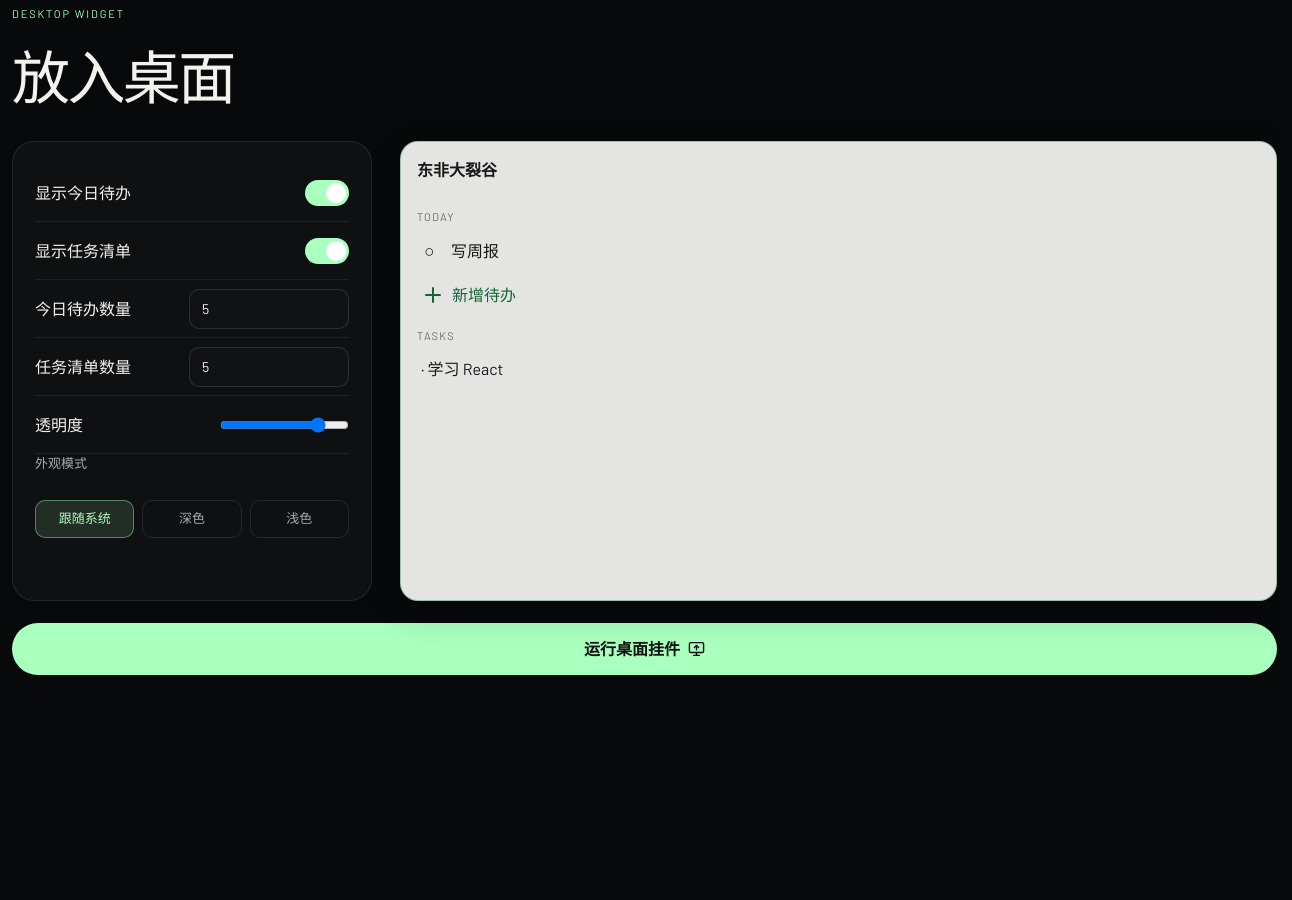
Test case: DesktopConfigPage › runs the configured desktop widget from the console
The width and height of the screenshot is (1292, 900).
Click the button "运行桌面挂件".
click(644, 649)  # box [12,623,1277,675]
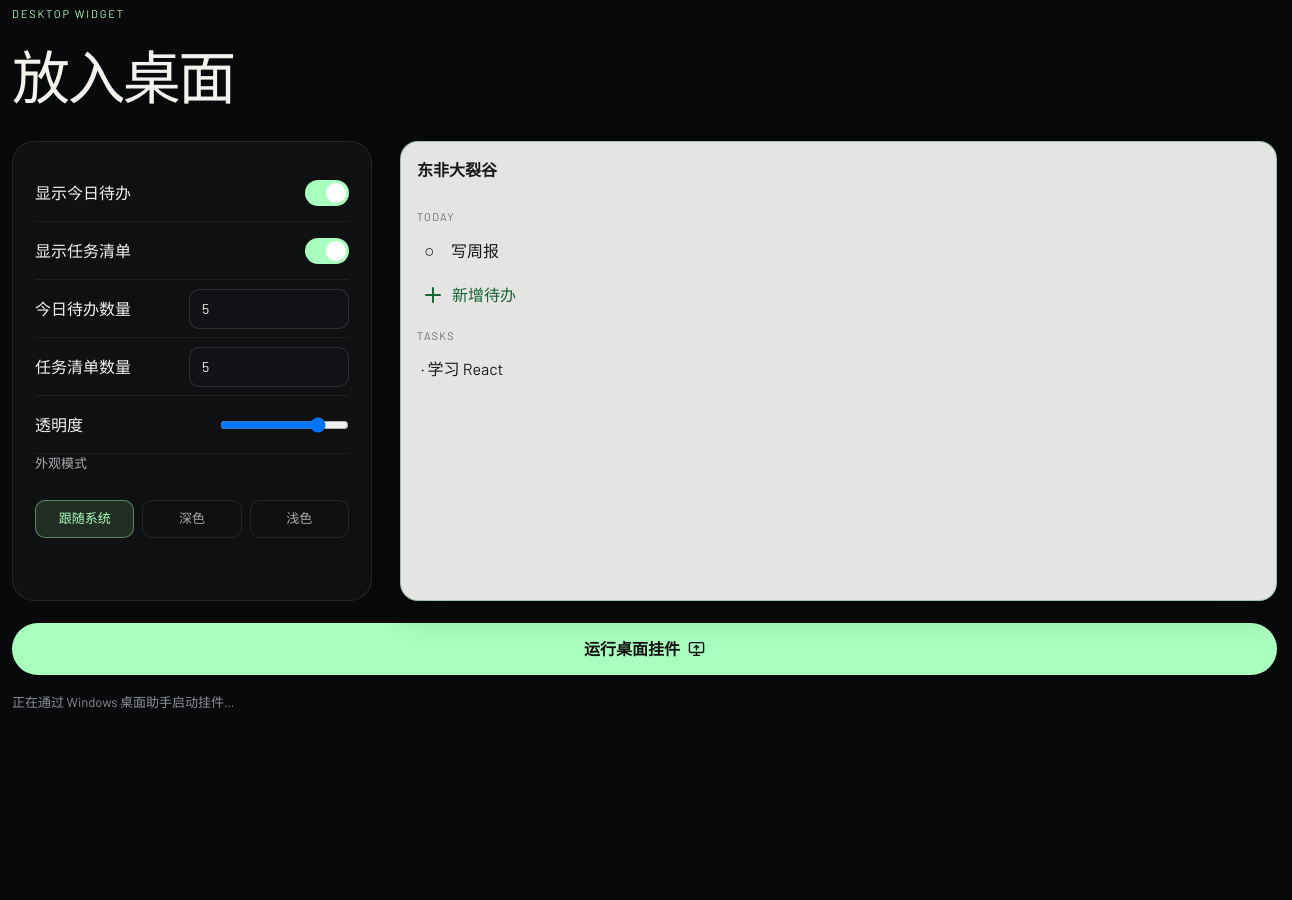
expect the text "正在通过 Windows 桌面助手启动挂件…" is shown: met, box [12,694,234,710]
